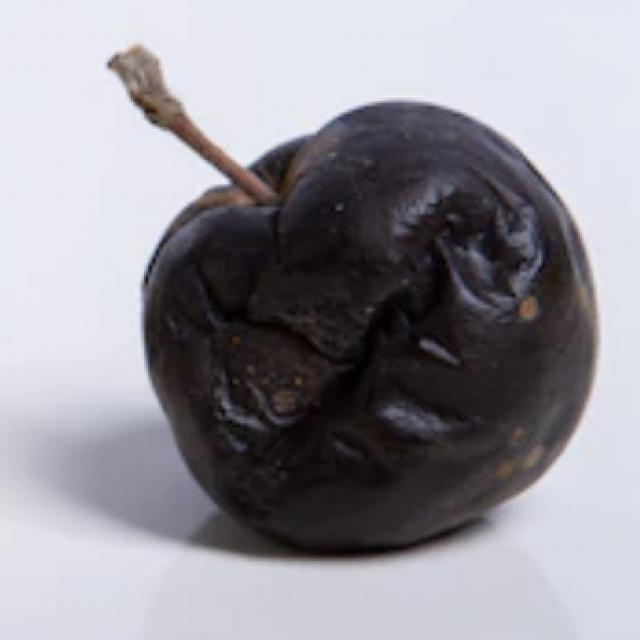rotten_apple: (134, 56, 595, 554)
